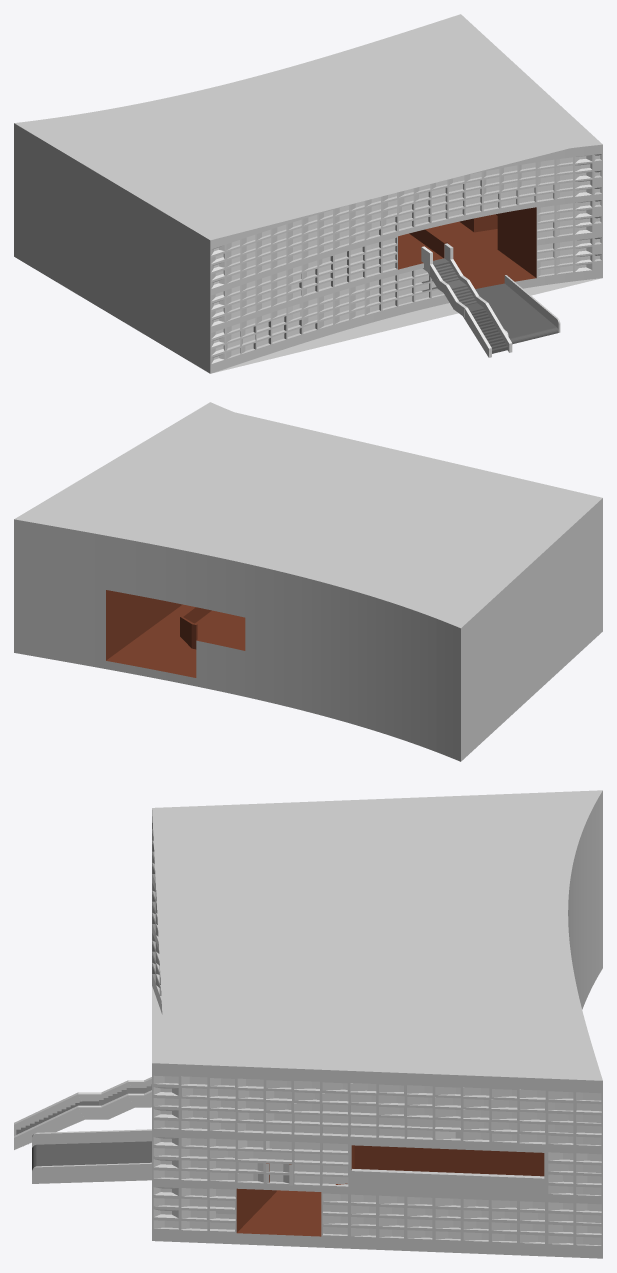
The model's file is Linen.fbx.
The picture shows the model from 3 angles, top to bottom: view 1: azimuth 30°, elevation 25°; view 2: azimuth 150°, elevation 25°; view 3: azimuth 270°, elevation 25°; orthographic projection. The views are drawn at different scales.
Visible parts, largest first — view 1: NURBS 路径.001, 立方体.005; view 2: NURBS 路径.001; view 3: NURBS 路径.001, 立方体.012, 立方体.006.
Part boxes in pixels (x1,y1,x2,y2): NURBS 路径.001: (14, 14, 602, 373); 立方体.005: (471, 309, 508, 353); NURBS 路径.001: (14, 402, 602, 761); NURBS 路径.001: (32, 790, 602, 1258); 立方体.012: (14, 1106, 84, 1149); 立方体.006: (14, 1092, 81, 1135).
Size of the model in its own units: 455 by 131 by 390.
